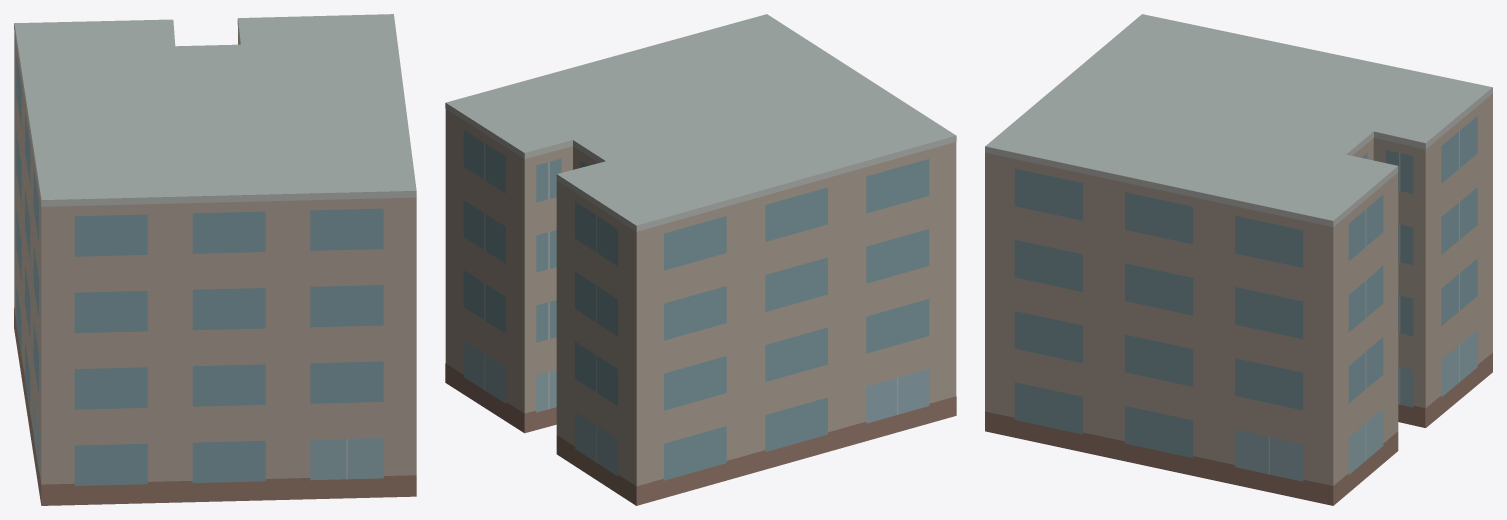
The model's file is survey-upis-32800637.glb.
3 views of the same model, side by side, from view 1: azimuth 30°, elevation 25°; view 2: azimuth 150°, elevation 25°; view 3: azimuth 270°, elevation 25° (orthographic). The views are drawn at different scales.
Parts seen in each view (by area): view 1: survey-upis-32800637.tmp; view 2: survey-upis-32800637.tmp; view 3: survey-upis-32800637.tmp.
Part boxes in pixels (bbox=[...]): survey-upis-32800637.tmp: bbox=[14, 14, 416, 505]; survey-upis-32800637.tmp: bbox=[445, 14, 956, 505]; survey-upis-32800637.tmp: bbox=[985, 14, 1492, 505].
Bounding box in the file's own units: 17.3 × 11.1 × 17.93.
